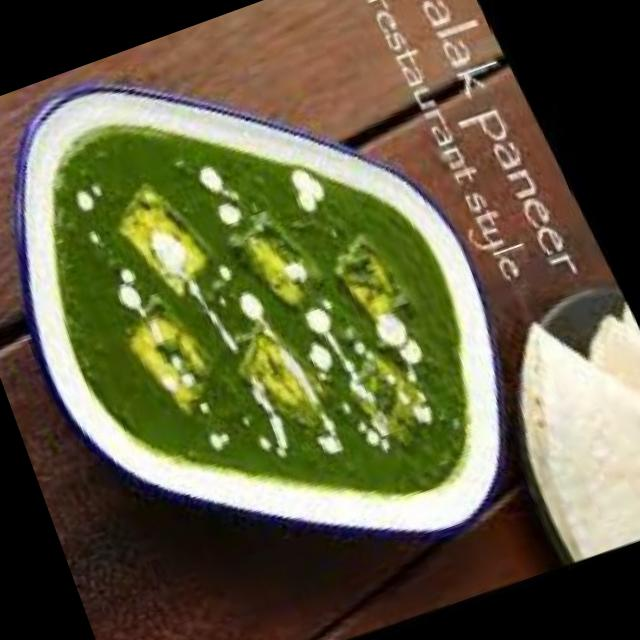palak_paneer: (0, 27, 539, 598)
